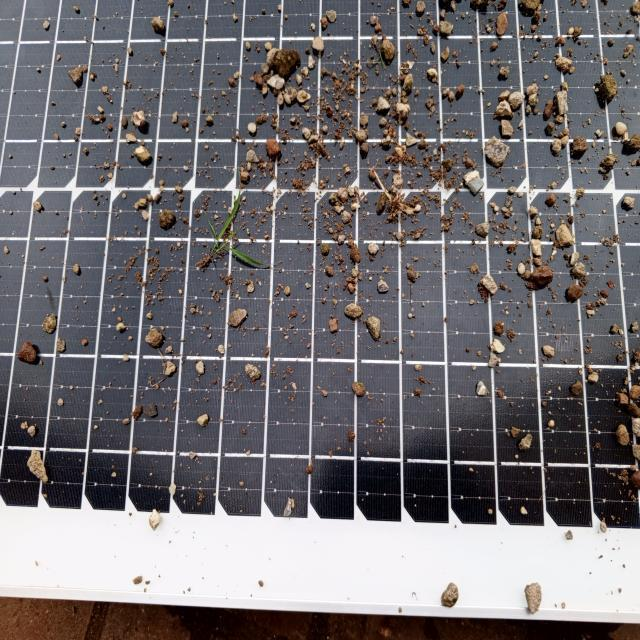Anomaly Solar Panel: (6, 0, 638, 550)
Surface Contaminant: (16, 1, 639, 564)
